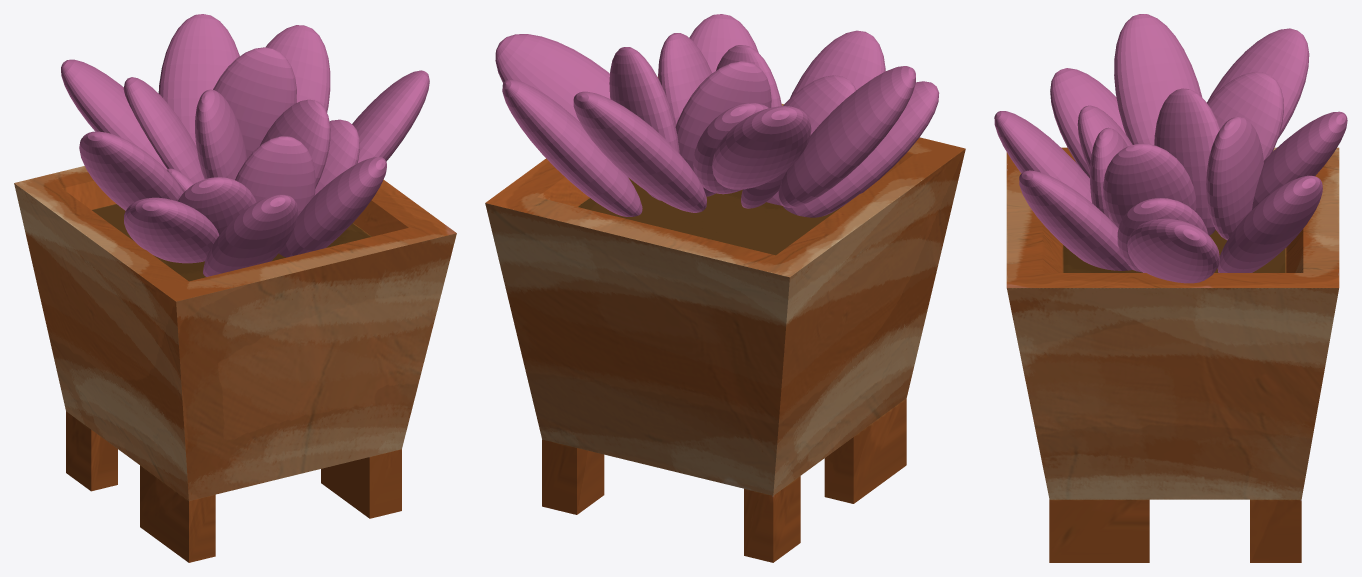
File: matera2.glb
3 views of the same model, side by side, from view 1: azimuth 30°, elevation 25°; view 2: azimuth 150°, elevation 25°; view 3: azimuth 270°, elevation 25° (orthographic). The views are drawn at different scales.
Parts seen in each view (by area): view 1: Cube, hoja.006, hoja.018, hoja.010, hoja.007, hoja.008, hoja.013, hoja.012, hoja.009, hoja.017, hoja.014, hoja.019 (+4 smaller); view 2: Cube, hoja.007, hoja.006, hoja.011, hoja.012, hoja.009, hoja.013, hoja.019, hoja.018, hoja.008, hoja.021, hoja.014 (+4 smaller); view 3: Cube, hoja.007, hoja.010, hoja.011, hoja.018, hoja.021, hoja.009, hoja.019, hoja.006, hoja.012, hoja.014, hoja.008 (+4 smaller).
Part boxes in pixels (box(x1,y1,x2,y2)): Cube: box(14, 166, 456, 562); hoja.006: box(158, 14, 239, 146); hoja.018: box(213, 47, 296, 158); hoja.010: box(279, 157, 386, 257); hoja.007: box(79, 131, 183, 210); hoja.008: box(203, 194, 297, 276); hoja.013: box(124, 197, 219, 263); hoja.012: box(61, 59, 167, 169); hoja.009: box(352, 70, 429, 163); hoja.017: box(235, 136, 315, 215); hoja.014: box(123, 77, 204, 183); hoja.019: box(195, 89, 246, 179); Cube: box(485, 76, 965, 562); hoja.007: box(778, 66, 915, 207); hoja.006: box(573, 91, 706, 212); hoja.011: box(502, 79, 642, 216); hoja.012: box(712, 106, 811, 189); hoja.009: box(495, 34, 610, 121); hoja.013: box(783, 81, 939, 217); hoja.019: box(675, 61, 771, 196); hoja.018: box(609, 47, 679, 200); hoja.008: box(790, 30, 885, 97); hoja.021: box(658, 33, 712, 126); hoja.014: box(693, 103, 768, 194); Cube: box(1006, 147, 1339, 562); hoja.007: box(1114, 14, 1202, 144); hoja.010: box(1019, 170, 1132, 270); hoja.011: box(1217, 175, 1322, 272); hoja.018: box(1206, 116, 1263, 240); hoja.021: box(1103, 143, 1196, 228); hoja.009: box(1127, 218, 1219, 283); hoja.019: box(1154, 88, 1220, 235); hoja.006: box(1252, 111, 1347, 209); hoja.012: box(1207, 28, 1309, 138); hoja.014: box(1207, 72, 1283, 160); hoja.008: box(994, 111, 1091, 202).
Size of the model in its own units: 1.61 by 1.77 by 1.33.
2 materials, 1 textured.
